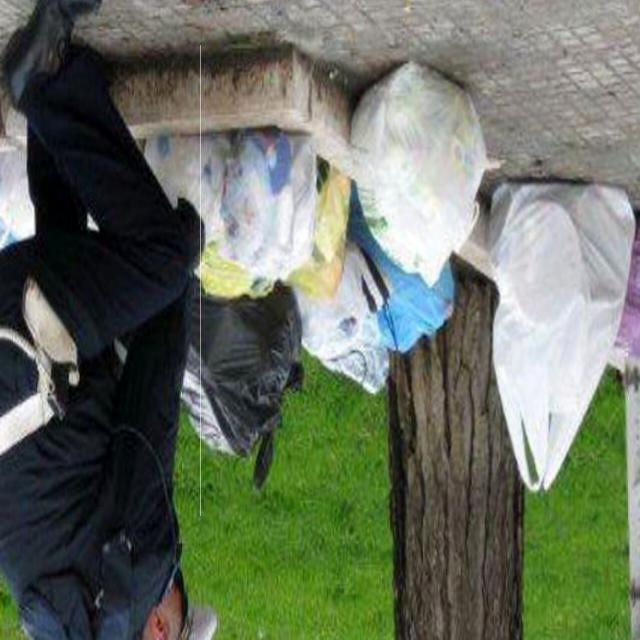Anorganik: (200, 44, 629, 516)
